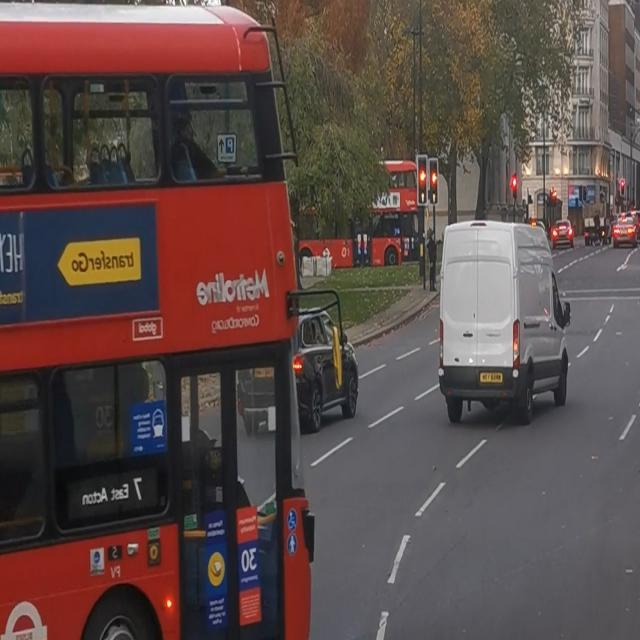Car: (0, 8, 281, 640), (438, 220, 572, 422), (244, 300, 360, 428), (612, 220, 636, 248)
